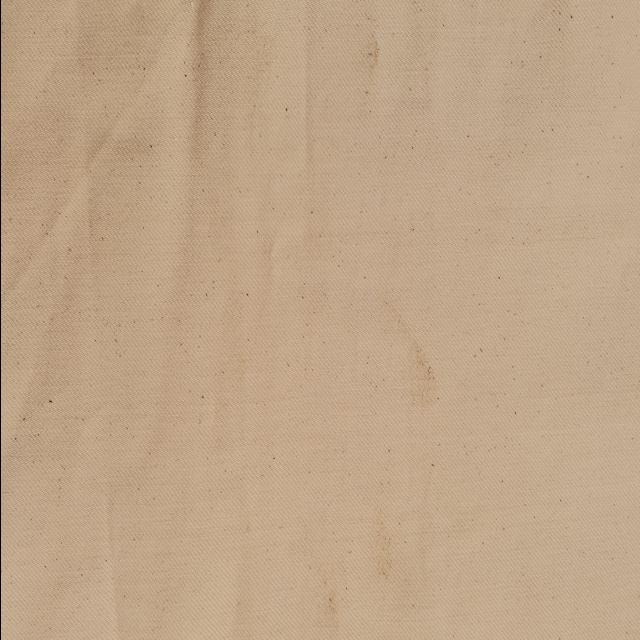taaaches: (392, 254, 436, 431), (357, 21, 382, 79)
